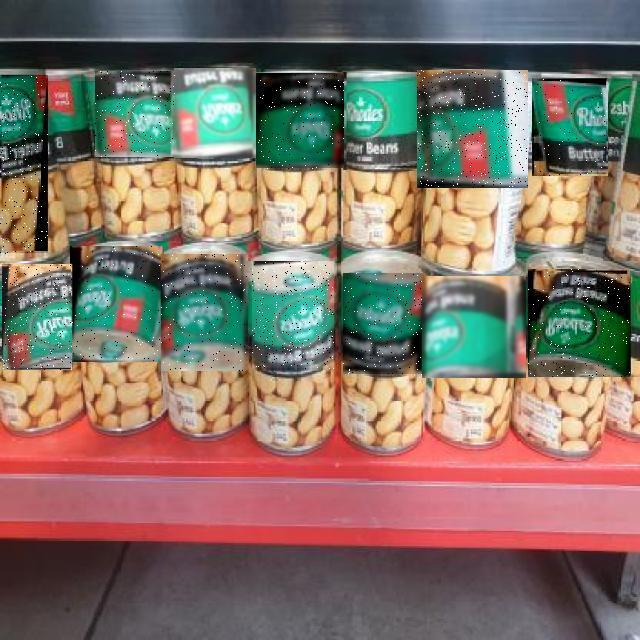Beans: (417, 70, 528, 188), (528, 269, 630, 377), (70, 246, 164, 362), (422, 277, 526, 379), (162, 254, 248, 371), (252, 262, 334, 370), (0, 76, 48, 256), (343, 274, 426, 376), (256, 74, 344, 170), (343, 72, 422, 170), (532, 78, 608, 176), (2, 264, 72, 370), (175, 68, 257, 158), (96, 71, 176, 157)
